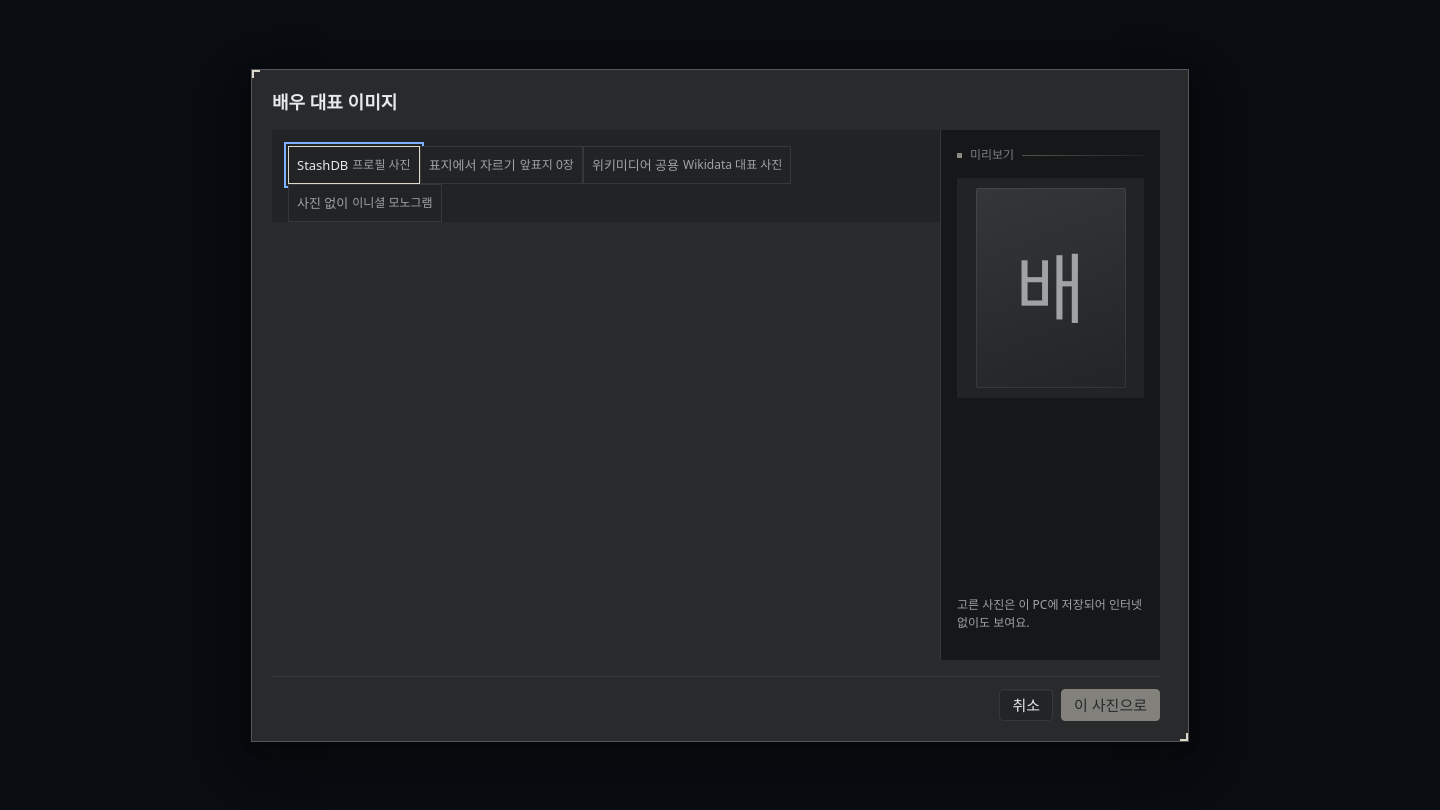
Scenario: does not load stored StashDB photos when the API key is absent
What coordinates should you click on to do the following:
click the button "StashDB 프로필 사진"
I would click on:
 (354, 164)
Its box is [288,146,420,184].
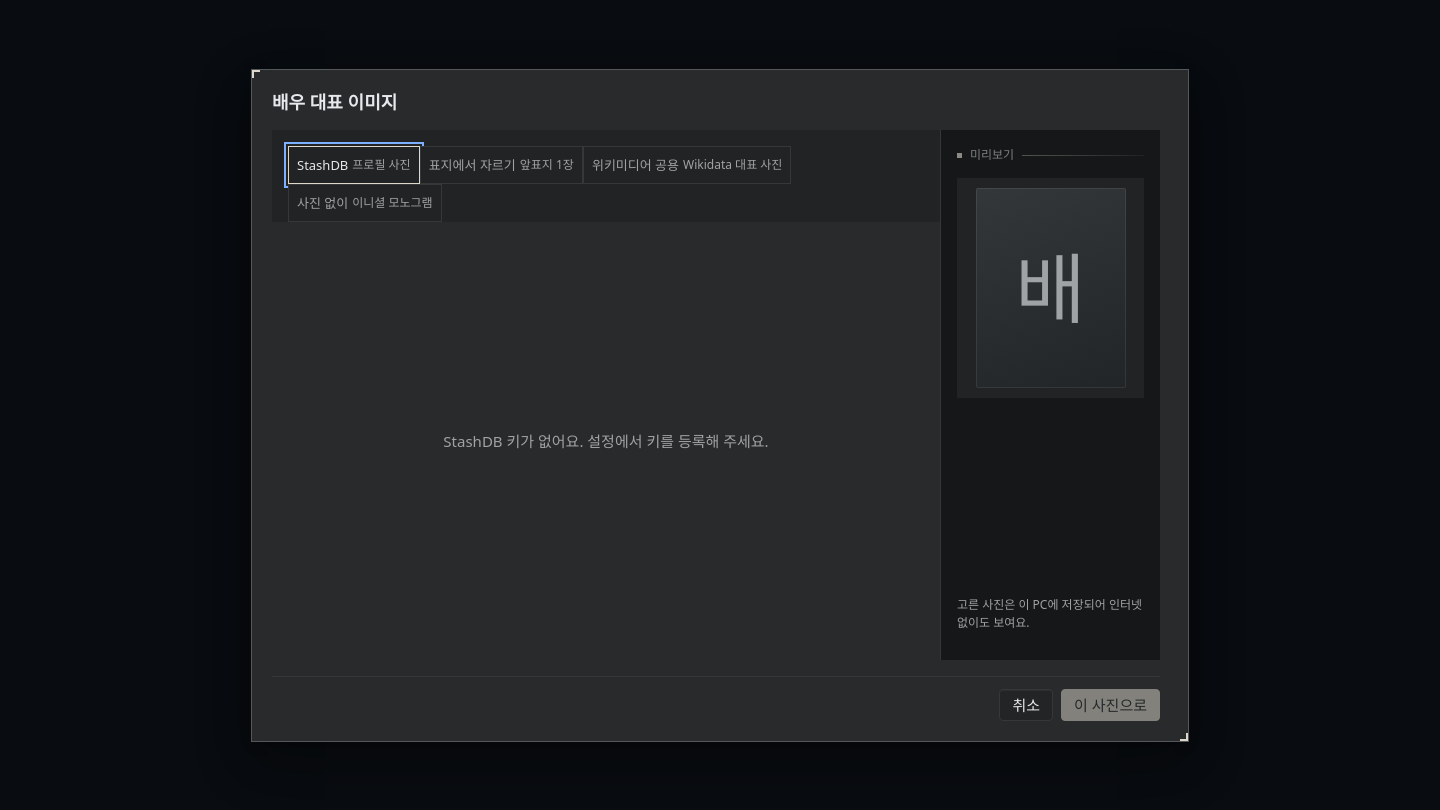
Check: the text "StashDB 키가 없어요. 설정에서 키를 등록해 주세요." is shown, box [443,430,769,450]
